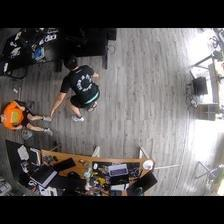fall: (54, 56, 100, 123)
normal: (1, 99, 55, 135)
